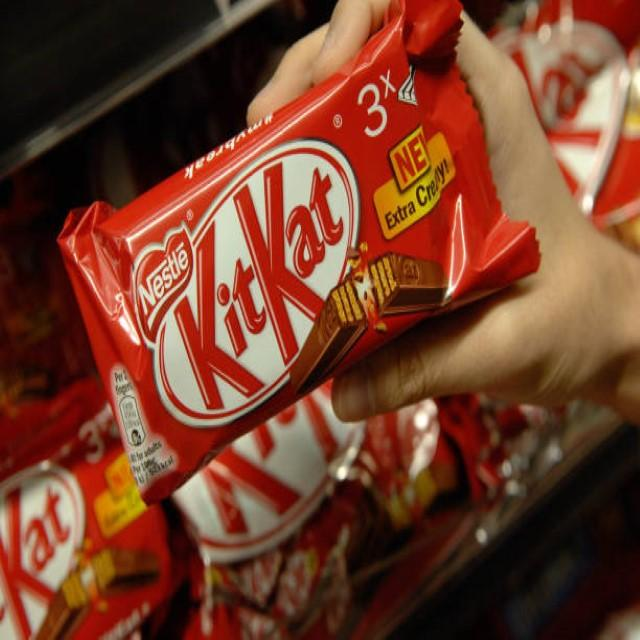kitkat_chocolate: (86, 0, 503, 446)
